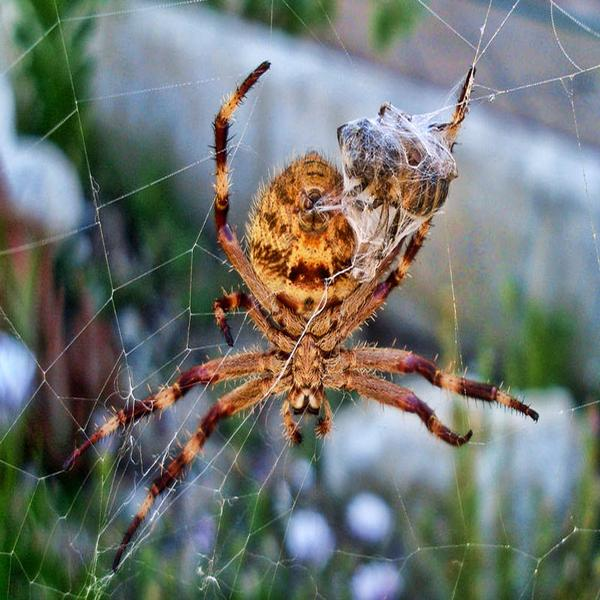Garden Orb Weaver Spider: (104, 85, 535, 512)
